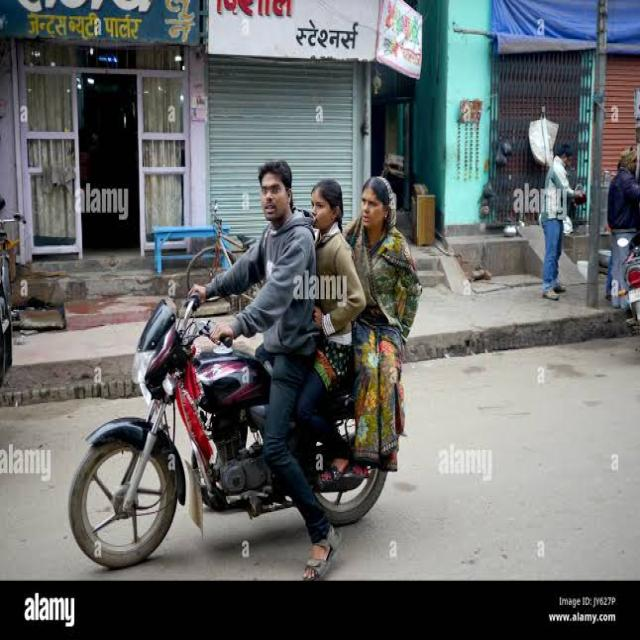triple_rider: (65, 159, 416, 532)
